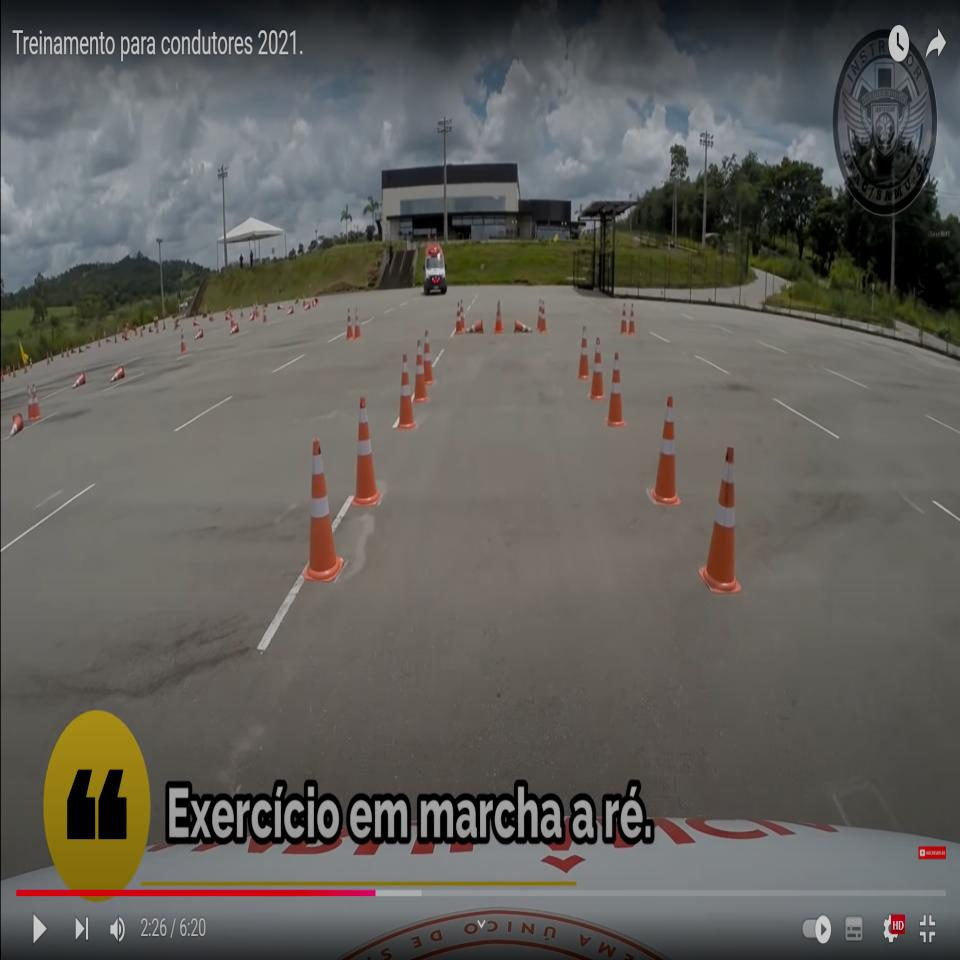ambulancia: (423, 241, 448, 296)
